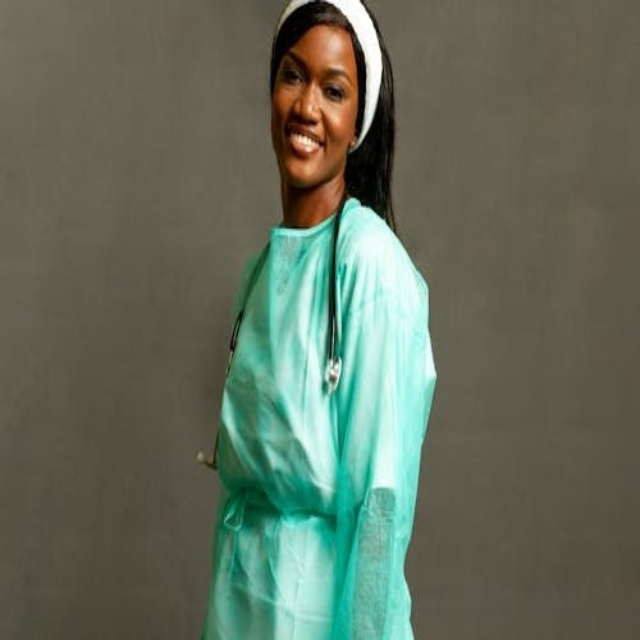Sin_gafas: (276, 52, 351, 108)
Sin_mascara: (279, 119, 324, 177)
